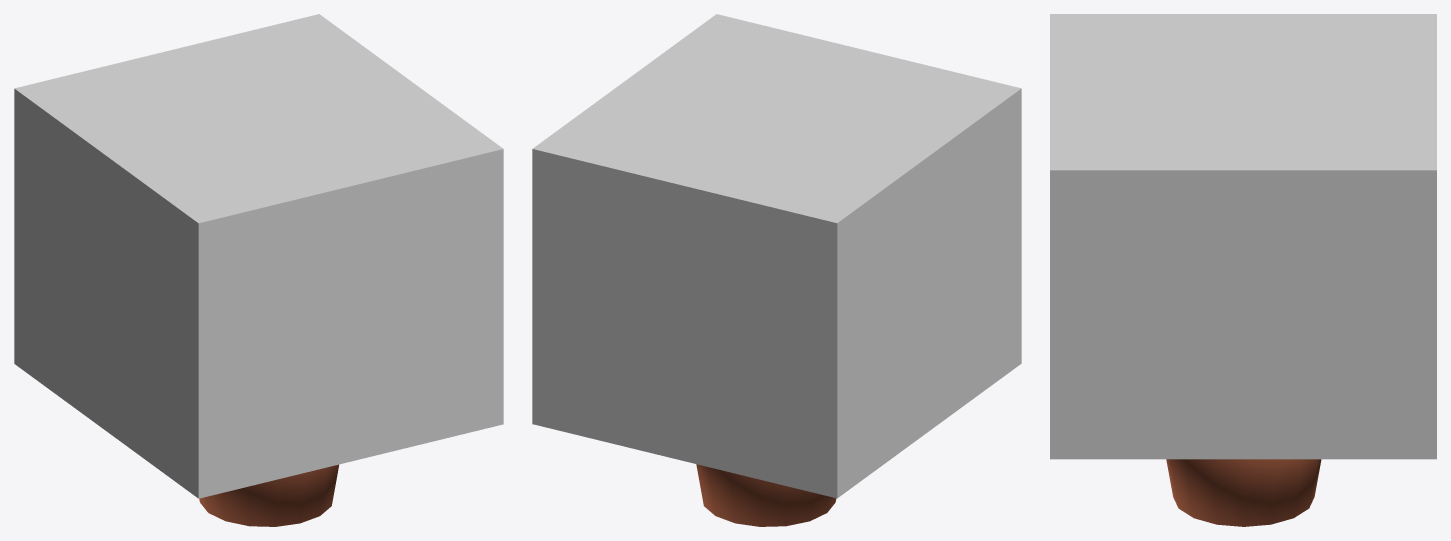
Rendered from Deco_Plant_Bush.001.gltf.
3 views of the same model, side by side, from view 1: azimuth 30°, elevation 25°; view 2: azimuth 150°, elevation 25°; view 3: azimuth 270°, elevation 25° (orthographic). The views are drawn at different scales.
Parts seen in each view (by area): view 1: Deco_Plant_Bush.001_COL, Deco_Plant_Bush.001; view 2: Deco_Plant_Bush.001_COL, Deco_Plant_Bush.001; view 3: Deco_Plant_Bush.001_COL, Deco_Plant_Bush.001.
Boxes of the visible parts, x1,y1,x2,y2 form: Deco_Plant_Bush.001_COL: (14, 14, 503, 498); Deco_Plant_Bush.001: (199, 464, 338, 526); Deco_Plant_Bush.001_COL: (532, 14, 1021, 498); Deco_Plant_Bush.001: (696, 464, 836, 526); Deco_Plant_Bush.001_COL: (1050, 14, 1436, 459); Deco_Plant_Bush.001: (1166, 459, 1321, 526).
Size of the model in its own units: 0.9934 by 1.19 by 1.04.
